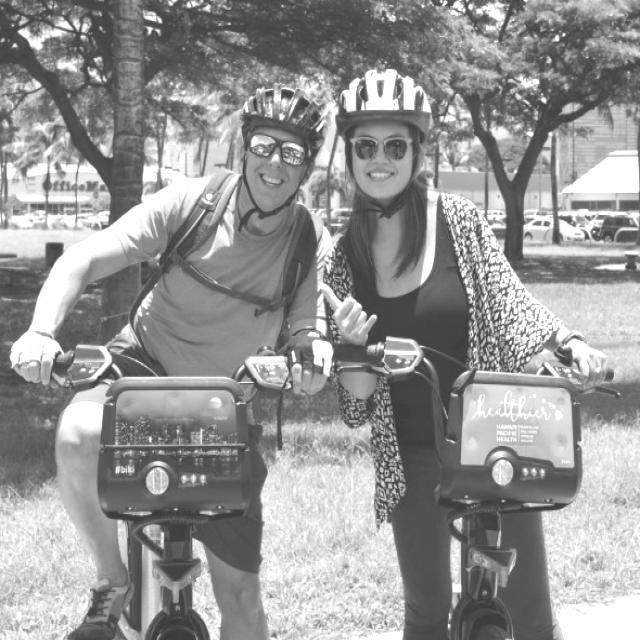Helmet: (330, 61, 440, 208), (238, 75, 324, 220)
